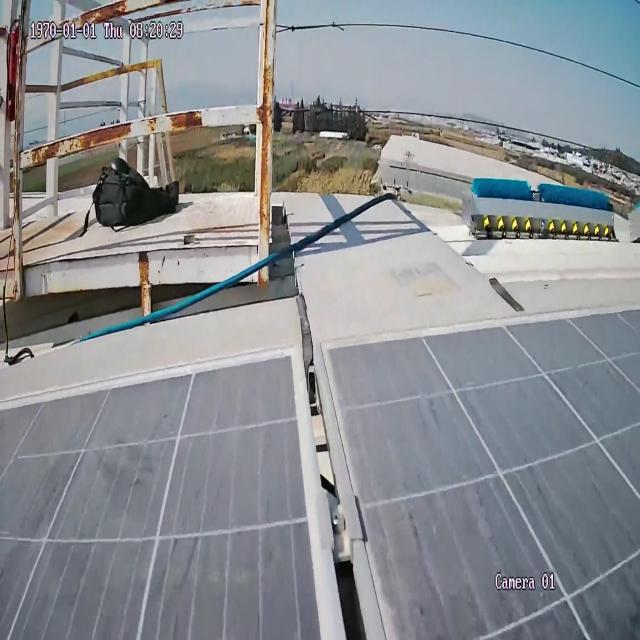interior panel: (294, 372, 386, 640)
outher panel: (0, 181, 638, 401)
